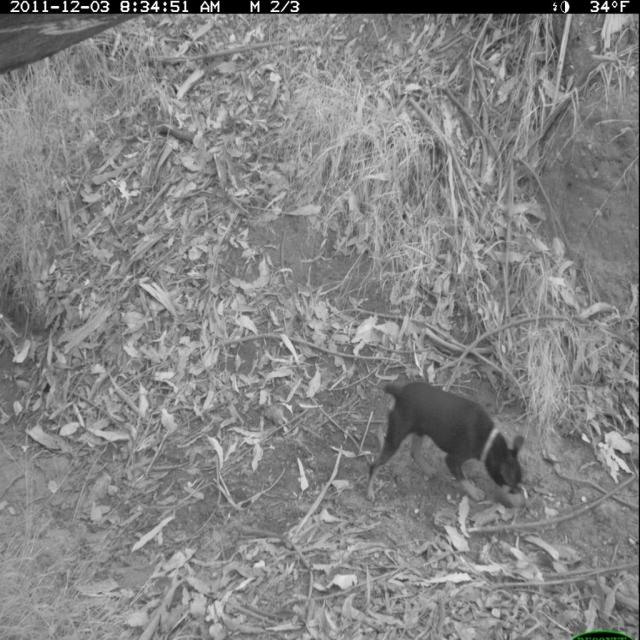dog: (364, 371, 539, 517)
